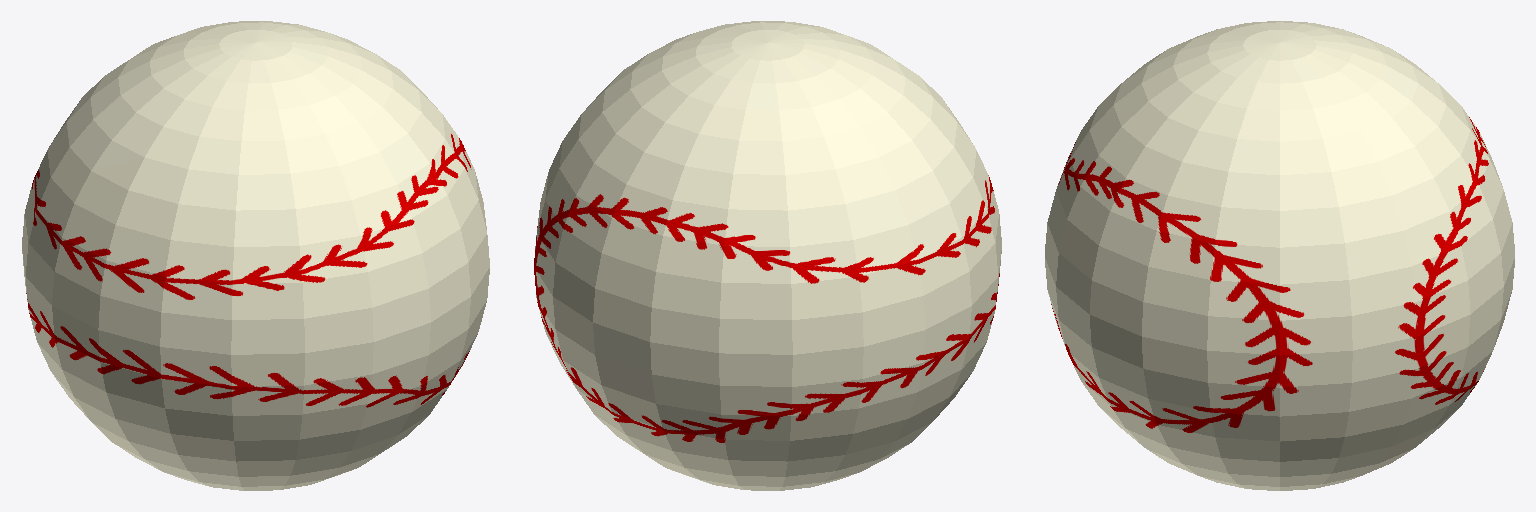
The picture shows the model from 3 angles: view 1: azimuth 30°, elevation 25°; view 2: azimuth 150°, elevation 25°; view 3: azimuth 270°, elevation 25°; orthographic projection.
Parts seen in each view (by area): view 1: pSphere1; view 2: pSphere1; view 3: pSphere1.
Boxes of the visible parts, <box> form: pSphere1: <box>22,21,489,490</box>; pSphere1: <box>534,21,1001,490</box>; pSphere1: <box>1045,21,1514,490</box>.
Bounding box in the file's own units: 0.2 × 0.2 × 0.2.
Materials: 1 (1 with a texture image).